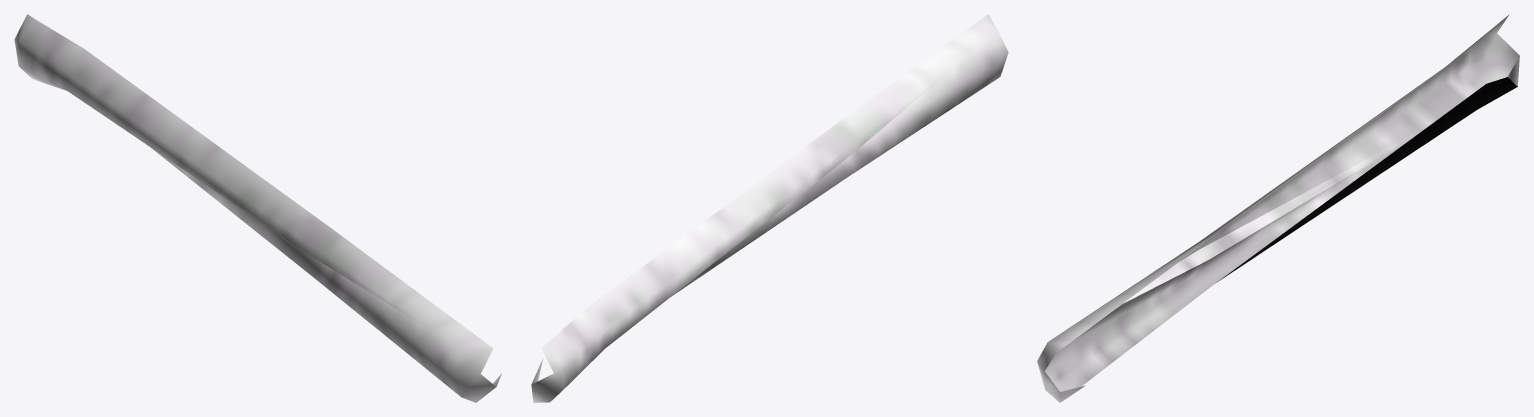
The picture shows the model from 3 angles, left to right: view 1: azimuth 30°, elevation 25°; view 2: azimuth 150°, elevation 25°; view 3: azimuth 330°, elevation 25°; orthographic projection.
Parts seen in each view (by area): view 1: wg_l_a_s; view 2: wg_l_a_s; view 3: wg_l_a_s.
Boxes of the visible parts, x1,y1,x2,y2 form: wg_l_a_s: [14, 14, 501, 402]; wg_l_a_s: [531, 14, 1008, 402]; wg_l_a_s: [1037, 14, 1519, 402].
Size of the model in its own units: 0.1383 by 0.1751 by 2.22.
Materials: 2 (1 with a texture image).
